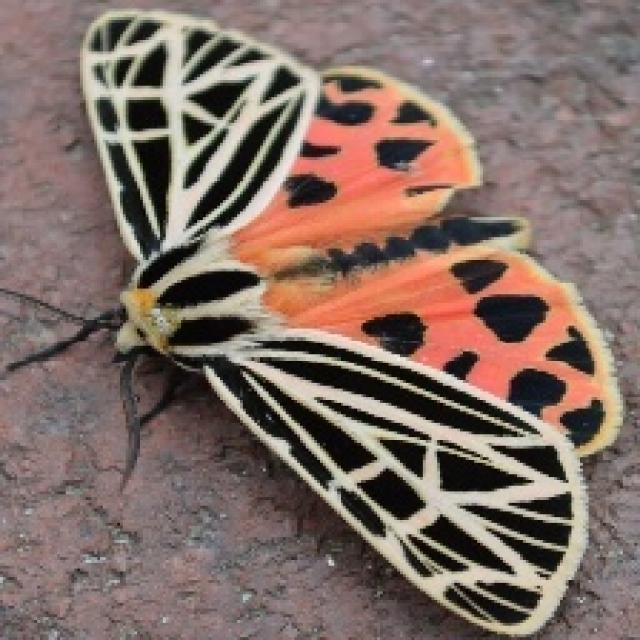butterfly: (0, 6, 626, 637)
